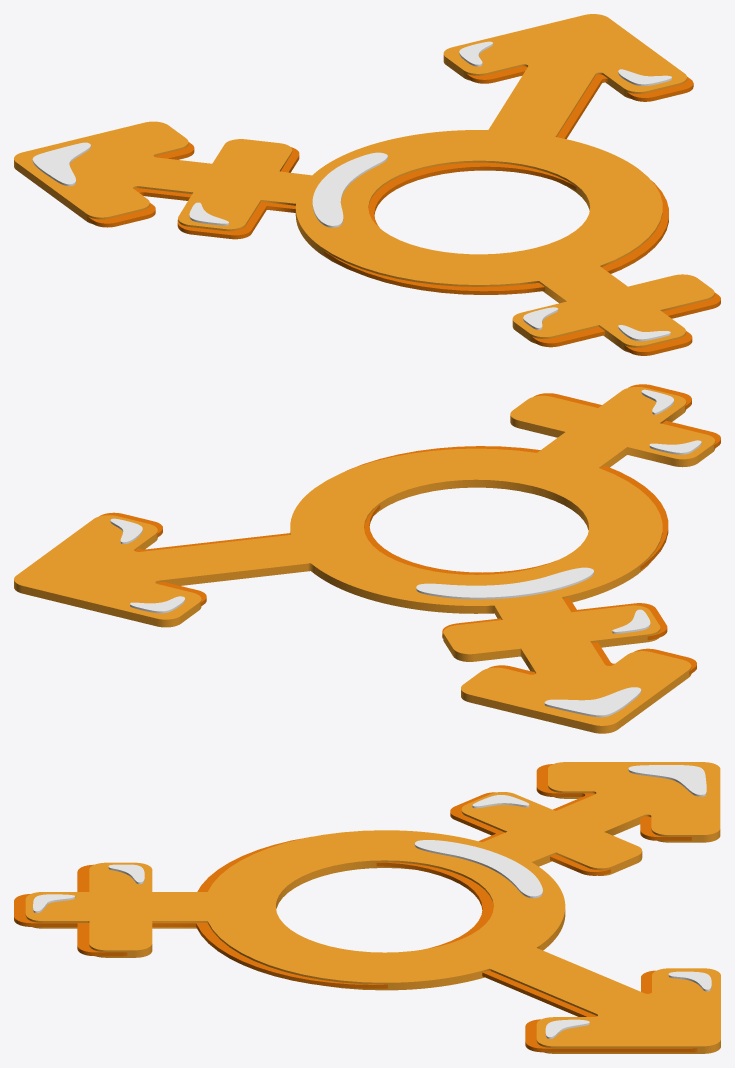
The model's file is emoji_u26a7.glb.
The picture shows the model from 3 angles, top to bottom: view 1: azimuth 30°, elevation 25°; view 2: azimuth 150°, elevation 25°; view 3: azimuth 270°, elevation 25°; orthographic projection. The views are drawn at different scales.
Visible parts, largest first — view 1: emoji_u26a7; view 2: emoji_u26a7; view 3: emoji_u26a7.
Boxes of the visible parts, bbox=[...] form: emoji_u26a7: bbox=[14, 14, 720, 355]; emoji_u26a7: bbox=[14, 384, 720, 733]; emoji_u26a7: bbox=[14, 762, 720, 1053].
Bounding box in the file's own units: 0.0322 × 0.0006 × 0.0338.
